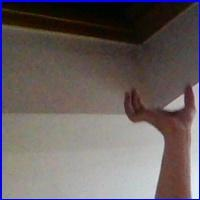space: (118, 84, 199, 139)
